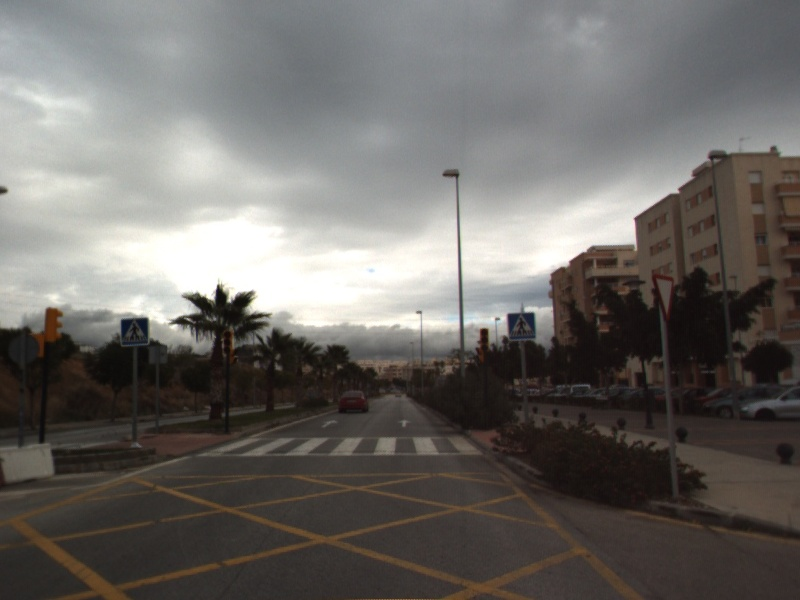STRAIGHT: (319, 418, 340, 429), (396, 417, 413, 428)
